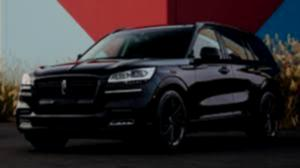lincoln: (58, 78, 68, 95)
